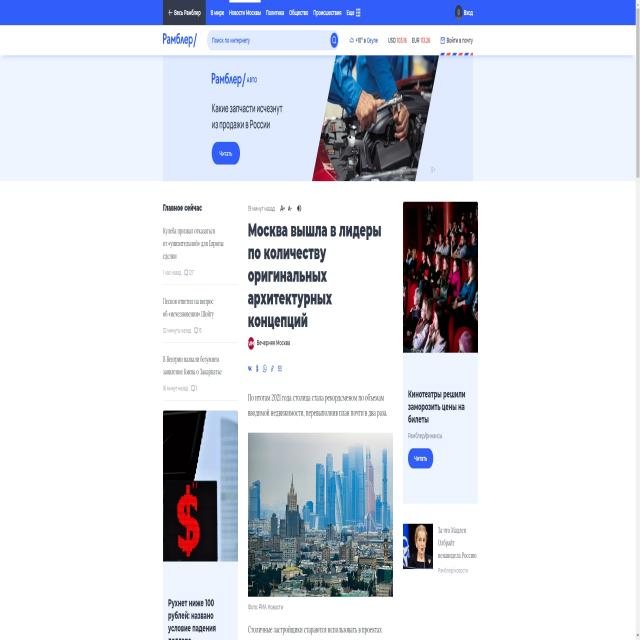search: (206, 23, 340, 50)
